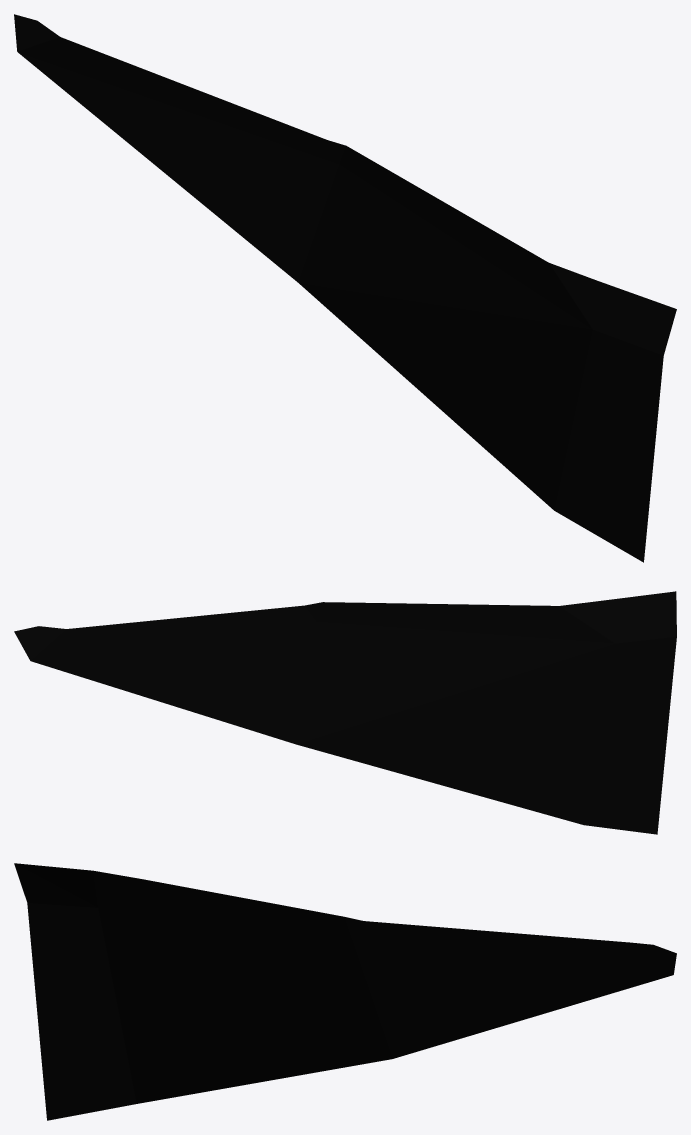
Rendered from 0518_zuoyan.glb.
3 renders of one model, top to bottom at view 1: azimuth 90°, elevation 25°; view 2: azimuth 150°, elevation 25°; view 3: azimuth 270°, elevation 25°, orthographic. The views are drawn at different scales.
Bounding box in the file's own units: 1.54 × 1.31 × 2.2.
1 material, 1 textured.
